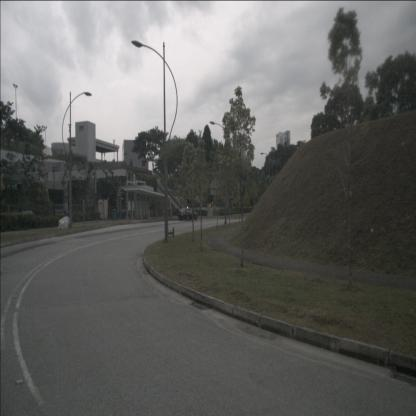vehicle-car: (177, 207, 198, 221)
